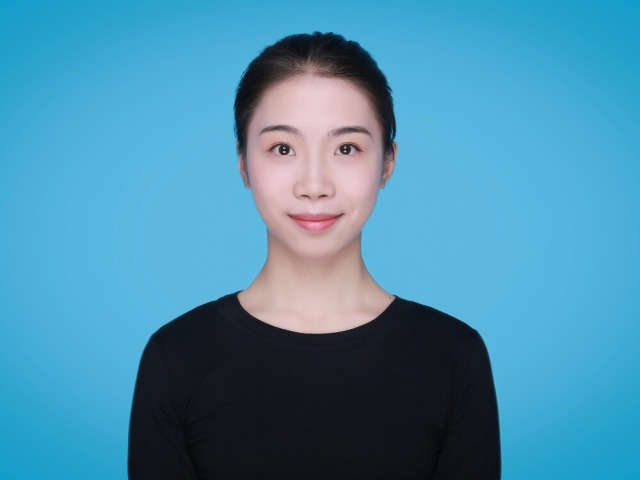unmask: (251, 90, 392, 248)
